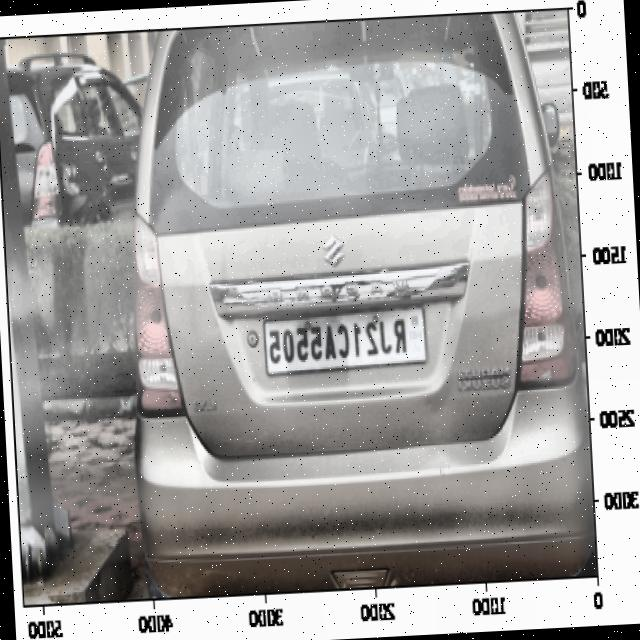license_plate: (263, 308, 416, 378)
